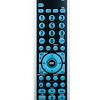remote control: (36, 3, 68, 100)
